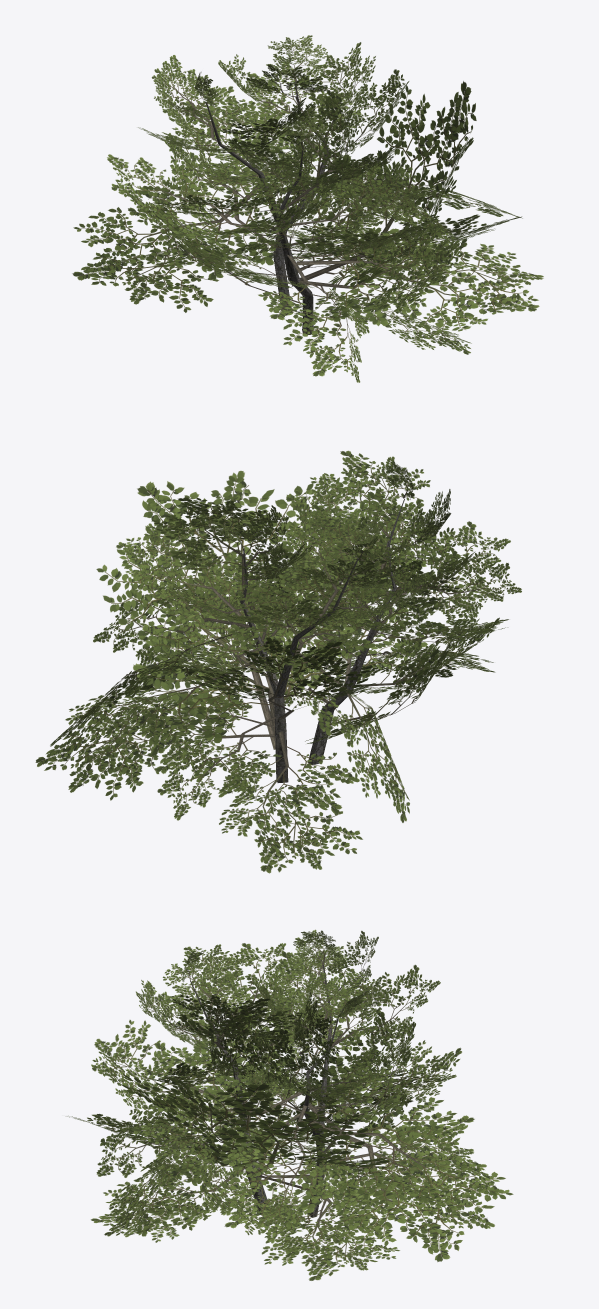
File: shrub6.glb
3 renders of one model, top to bottom at view 1: azimuth 30°, elevation 25°; view 2: azimuth 150°, elevation 25°; view 3: azimuth 270°, elevation 25°, orthographic. The views are drawn at different scales.
Parts seen in each view (by area): view 1: Bush-05; view 2: Bush-05; view 3: Bush-05.
Boxes of the visible parts, x1=… form: Bush-05: x1=72, y1=35, x2=543, y2=382; Bush-05: x1=35, y1=450, x2=521, y2=873; Bush-05: x1=66, y1=929, x2=513, y2=1280.
Bounding box in the file's own units: 4.23 × 2.24 × 4.63.
Materials: 3 (3 with a texture image).
